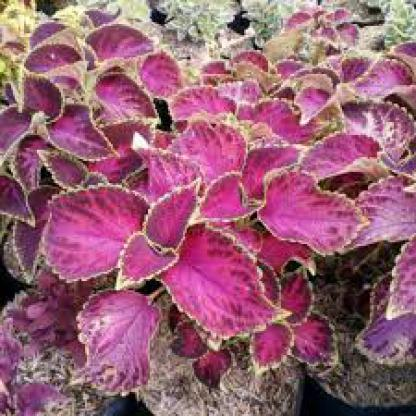Bunga Coleus: (14, 22, 382, 377)
